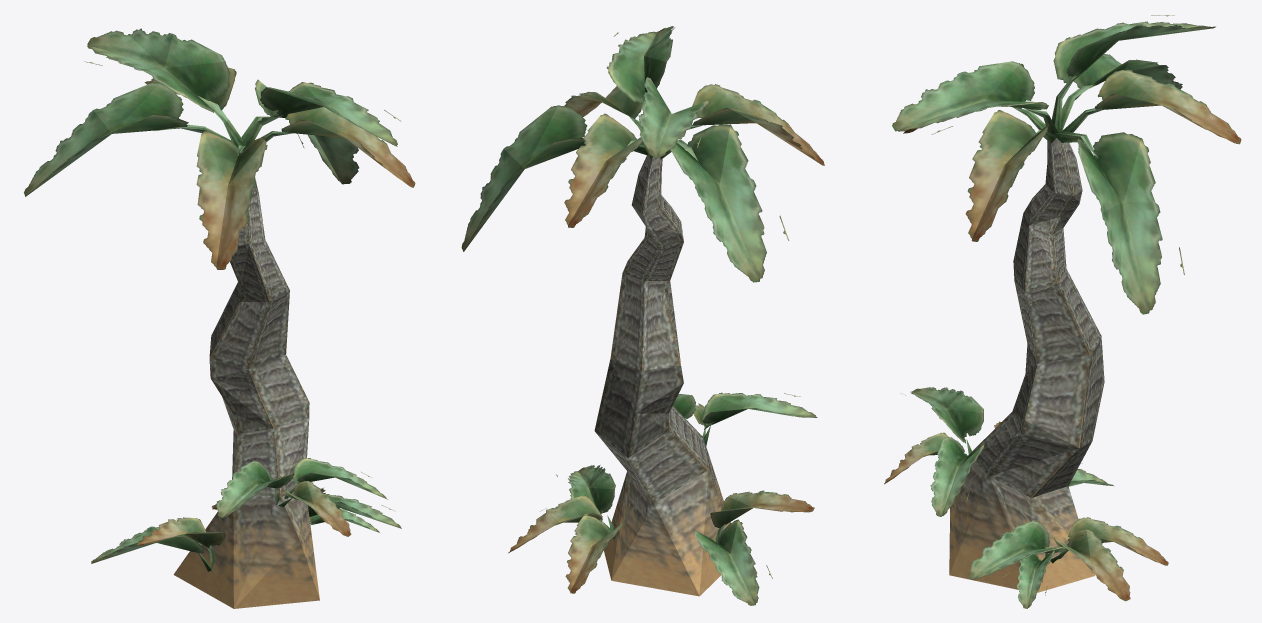
File: C2SNRDGA.obj
The picture shows the model from 3 angles, left to right: view 1: azimuth 30°, elevation 25°; view 2: azimuth 150°, elevation 25°; view 3: azimuth 270°, elevation 25°; orthographic projection.
Visible parts, largest first — view 1: Node 0; view 2: Node 0; view 3: Node 0.
Boxes of the visible parts, bbox=[...] form: Node 0: bbox=[24, 28, 415, 608]; Node 0: bbox=[461, 26, 824, 605]; Node 0: bbox=[884, 15, 1241, 608].
Size of the model in its own units: 4.19 by 5.8 by 3.73.
1 material, 1 textured.
